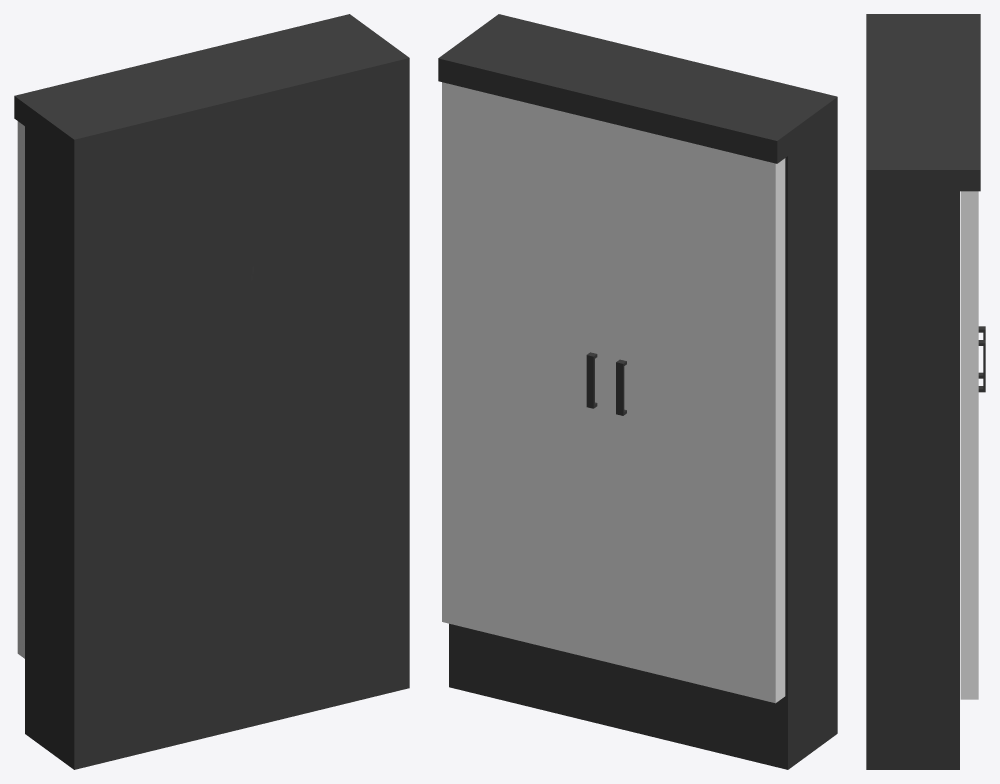
Rendered from wardrobe.fbx.
The picture shows the model from 3 angles, left to right: view 1: azimuth 30°, elevation 25°; view 2: azimuth 150°, elevation 25°; view 3: azimuth 270°, elevation 25°; orthographic projection. The views are drawn at different scales.
Parts seen in each view (by area): view 1: Box033; view 2: Box033; view 3: Box033.
Part boxes in pixels (x1=…): Box033: x1=14, y1=14, x2=409, y2=769; Box033: x1=438, y1=14, x2=837, y2=769; Box033: x1=866, y1=14, x2=985, y2=769.
Bounding box in the file's own units: 129 × 231 × 41.76.
Materials: 1 (1 with a texture image).
